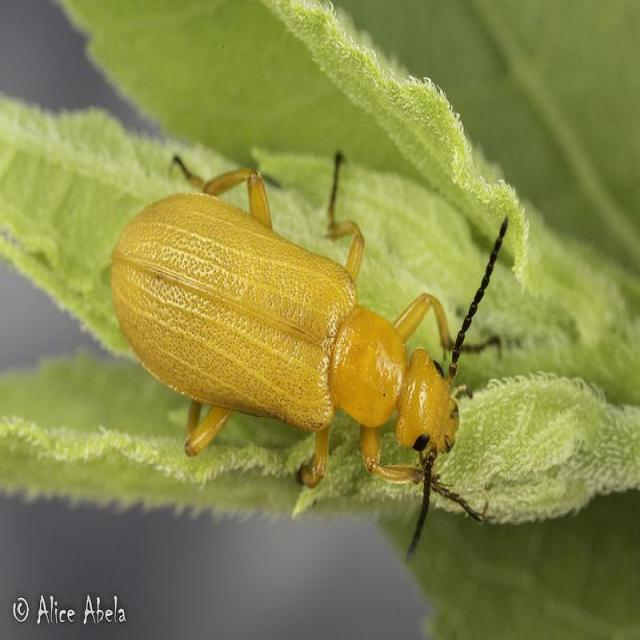BlisterBeetle-Adult-: (87, 140, 520, 560)
